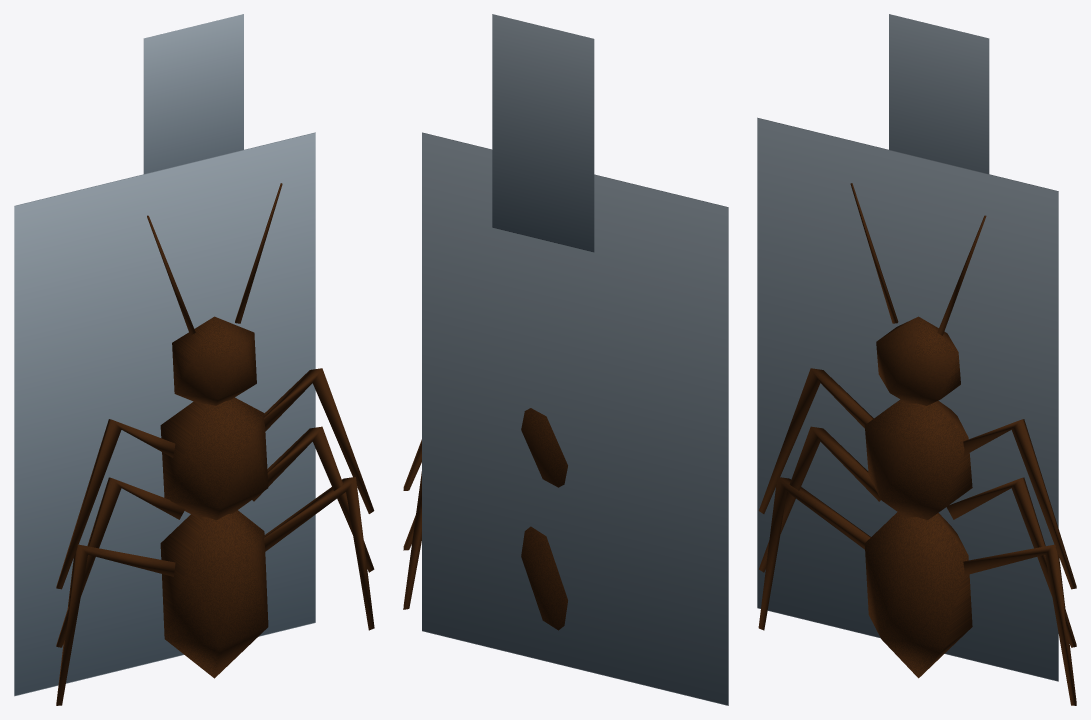
The model's file is insect.glb.
3 renders of one model, left to right at view 1: azimuth 30°, elevation 25°; view 2: azimuth 150°, elevation 25°; view 3: azimuth 330°, elevation 25°, orthographic.
Visible parts, largest first — view 1: insect__Root__Hook_ALPHA_only, Cricket_body_MESH, insect__Root__Leader_swivel_ALPHA_only, Cricket_body_MESH.002, Cricket_body_MESH.001, Cricket_leg_MESH.005, Cricket_leg_MESH.002, Cricket_leg_MESH, Cricket_leg_MESH.003, Cricket_leg_MESH.001, Cricket_leg_MESH.004, Cricket_antenna_MESH.001 (+1 smaller); view 2: insect__Root__Hook_ALPHA_only, insect__Root__Leader_swivel_ALPHA_only, Cricket_body_MESH, Cricket_body_MESH.002, Cricket_leg_MESH.005; view 3: insect__Root__Hook_ALPHA_only, insect__Root__Leader_swivel_ALPHA_only, Cricket_body_MESH, Cricket_body_MESH.002, Cricket_body_MESH.001, Cricket_leg_MESH.002, Cricket_leg_MESH.005, Cricket_leg_MESH, Cricket_leg_MESH.003, Cricket_leg_MESH.001, Cricket_leg_MESH.004, Cricket_antenna_MESH (+1 smaller).
Part boxes in pixels (bbox=[...]): insect__Root__Hook_ALPHA_only: bbox=[14, 132, 315, 696]; Cricket_body_MESH: bbox=[160, 510, 268, 678]; insect__Root__Leader_swivel_ALPHA_only: bbox=[143, 14, 243, 173]; Cricket_body_MESH.002: bbox=[160, 397, 268, 520]; Cricket_body_MESH.001: bbox=[172, 316, 256, 405]; Cricket_leg_MESH.005: bbox=[264, 477, 374, 630]; Cricket_leg_MESH.002: bbox=[56, 544, 175, 705]; Cricket_leg_MESH: bbox=[56, 419, 175, 589]; Cricket_leg_MESH.003: bbox=[264, 368, 374, 513]; Cricket_leg_MESH.001: bbox=[56, 477, 185, 647]; Cricket_leg_MESH.004: bbox=[252, 426, 374, 572]; Cricket_antenna_MESH.001: bbox=[235, 183, 282, 323]; insect__Root__Hook_ALPHA_only: bbox=[422, 132, 728, 705]; insect__Root__Leader_swivel_ALPHA_only: bbox=[492, 14, 594, 252]; Cricket_body_MESH: bbox=[521, 526, 567, 630]; Cricket_body_MESH.002: bbox=[521, 408, 567, 487]; Cricket_leg_MESH.005: bbox=[403, 471, 421, 609]; insect__Root__Hook_ALPHA_only: bbox=[757, 117, 1058, 681]; insect__Root__Leader_swivel_ALPHA_only: bbox=[889, 14, 989, 173]; Cricket_body_MESH: bbox=[864, 512, 972, 678]; Cricket_body_MESH.002: bbox=[864, 399, 972, 520]; Cricket_body_MESH.001: bbox=[876, 316, 960, 405]; Cricket_leg_MESH.002: bbox=[758, 477, 870, 630]; Cricket_leg_MESH.005: bbox=[963, 544, 1076, 705]; Cricket_leg_MESH: bbox=[759, 368, 873, 513]; Cricket_leg_MESH.003: bbox=[963, 419, 1076, 589]; Cricket_leg_MESH.001: bbox=[759, 426, 880, 572]; Cricket_leg_MESH.004: bbox=[946, 477, 1076, 647]; Cricket_antenna_MESH: bbox=[850, 183, 898, 323].
Size of the model in its own units: 0.0305 by 0.0546 by 0.00681.
Materials: 2 (2 with a texture image).
